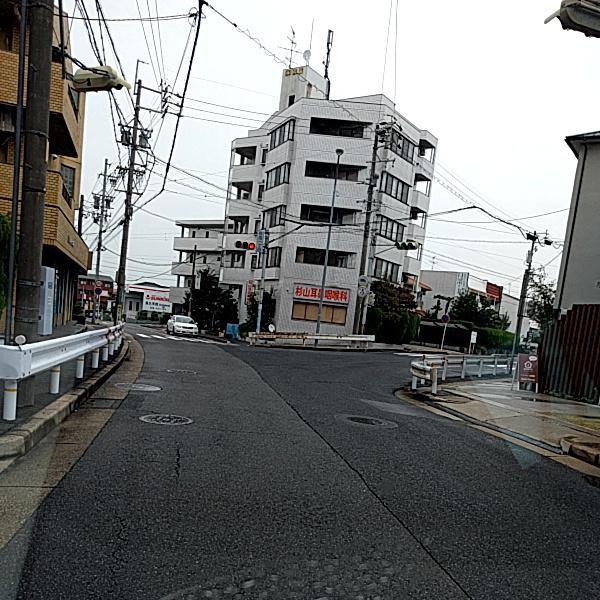D00: (105, 510, 132, 591), (166, 439, 185, 495)
D50: (341, 413, 393, 428), (138, 411, 189, 425), (110, 380, 161, 390)
